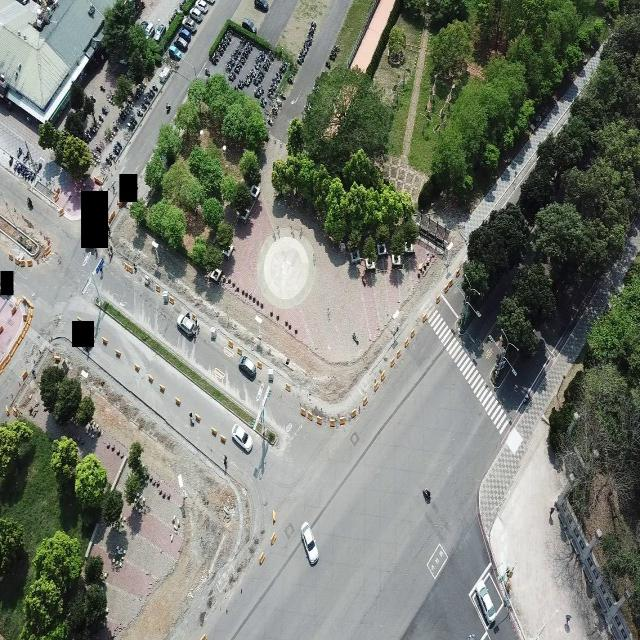bike: (223, 454, 227, 474), (189, 411, 194, 426)
car: (475, 581, 496, 626), (300, 521, 318, 565), (231, 423, 253, 453), (176, 312, 197, 337), (238, 354, 256, 379), (242, 17, 256, 34), (254, 0, 268, 11)
